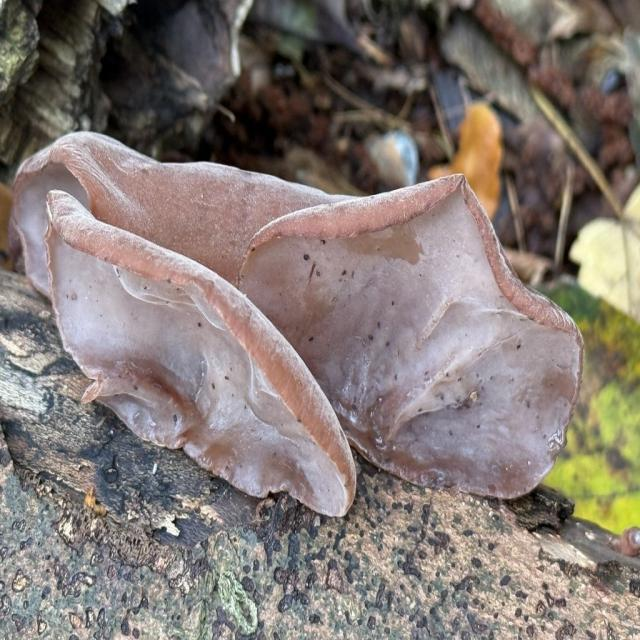Matang: (9, 128, 592, 517), (38, 187, 366, 528)
